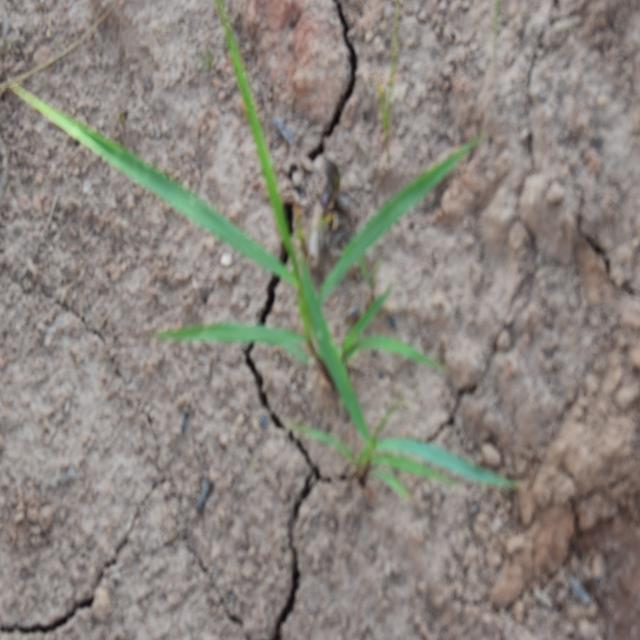green_foxtail: (30, 70, 435, 388), (320, 349, 502, 522)
